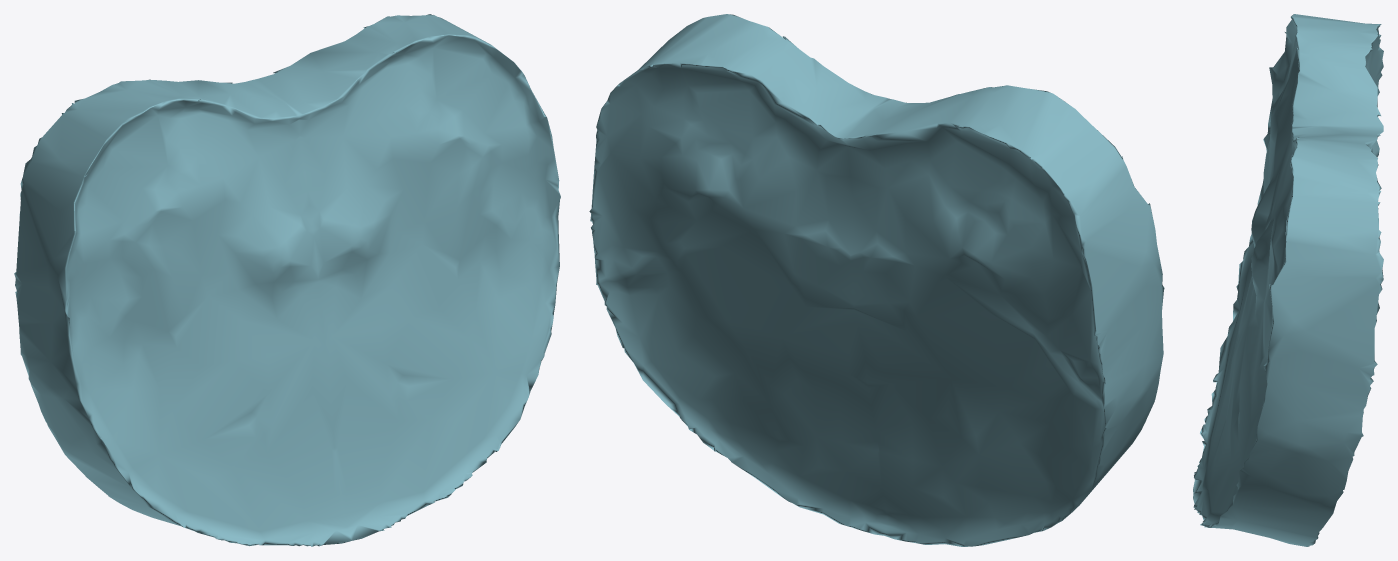
The picture shows the model from 3 angles, left to right: view 1: azimuth 30°, elevation 25°; view 2: azimuth 150°, elevation 25°; view 3: azimuth 270°, elevation 25°; orthographic projection. The views are drawn at different scales.
Visible parts, largest first — view 1: 腰1—腰2椎间盘; view 2: 腰1—腰2椎间盘; view 3: 腰1—腰2椎间盘.
Part boxes in pixels (box(x1,y1,x2,y2)): 腰1—腰2椎间盘: box(14, 14, 560, 546); 腰1—腰2椎间盘: box(589, 14, 1164, 546); 腰1—腰2椎间盘: box(1193, 14, 1383, 546).
Size of the model in its own units: 0.0636 by 0.0562 by 0.0225.
